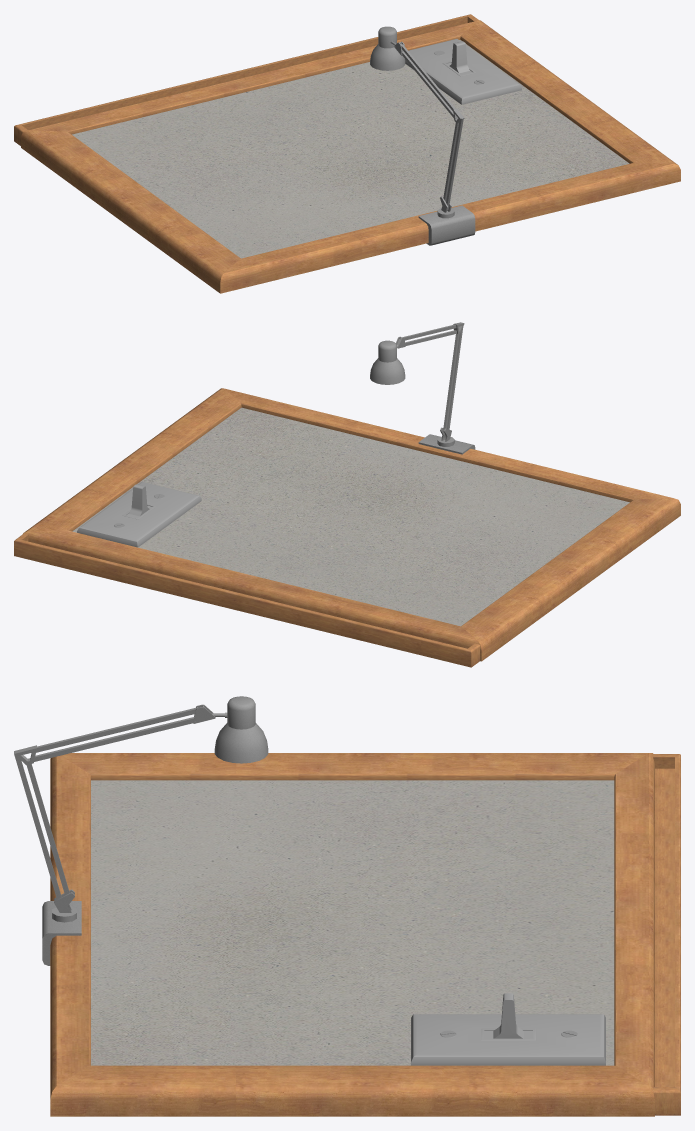
The model's file is TableAndLampFBX.fbx.
The picture shows the model from 3 angles, top to bottom: view 1: azimuth 30°, elevation 25°; view 2: azimuth 150°, elevation 25°; view 3: azimuth 270°, elevation 25°; orthographic projection. The views are drawn at different scales.
Parts seen in each view (by area): view 1: Table, LightSwitch_Baseplate, Lamp_Table_Mount, Lamp_Dome, Lamp_Upper_Arm, Lamp_Lower_Arm, LightSwitch_Toggle; view 2: Table, LightSwitch_Baseplate, Lamp_Dome, Lamp_Lower_Arm, Lamp_Upper_Arm; view 3: Table, LightSwitch_Baseplate, Lamp_Upper_Arm, Lamp_Dome, Lamp_Lower_Arm, Lamp_Table_Mount, LightSwitch_Toggle.
Part boxes in pixels (x1=…): Table: x1=14, y1=14, x2=680, y2=293; LightSwitch_Baseplate: x1=405, y1=39, x2=521, y2=104; Lamp_Table_Mount: x1=418, y1=205, x2=475, y2=245; Lamp_Dome: x1=370, y1=26, x2=405, y2=70; Lamp_Upper_Arm: x1=394, y1=41, x2=464, y2=123; Lamp_Lower_Arm: x1=443, y1=118, x2=463, y2=209; LightSwitch_Toggle: x1=449, y1=41, x2=469, y2=73; Table: x1=14, y1=388, x2=680, y2=667; LightSwitch_Baseplate: x1=77, y1=482, x2=201, y2=547; Lamp_Dome: x1=370, y1=340, x2=405, y2=384; Lamp_Lower_Arm: x1=443, y1=327, x2=463, y2=431; Lamp_Upper_Arm: x1=396, y1=322, x2=464, y2=348; Table: x1=50, y1=753, x2=680, y2=1116; LightSwitch_Baseplate: x1=411, y1=1014, x2=605, y2=1065; Lamp_Upper_Arm: x1=14, y1=704, x2=215, y2=764; Lamp_Dome: x1=212, y1=696, x2=268, y2=763; Lamp_Lower_Arm: x1=14, y1=754, x2=69, y2=899; Lamp_Table_Mount: x1=42, y1=901, x2=81, y2=965; LightSwitch_Toggle: x1=493, y1=993, x2=523, y2=1038.
Size of the model in its own units: 100 by 34.14 by 82.74.
